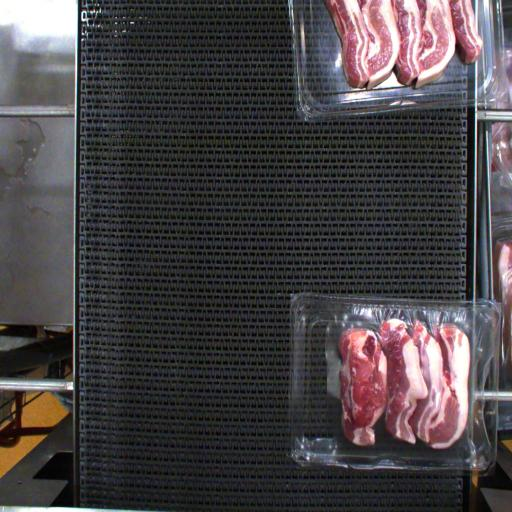unsealed: (309, 290, 501, 466)
